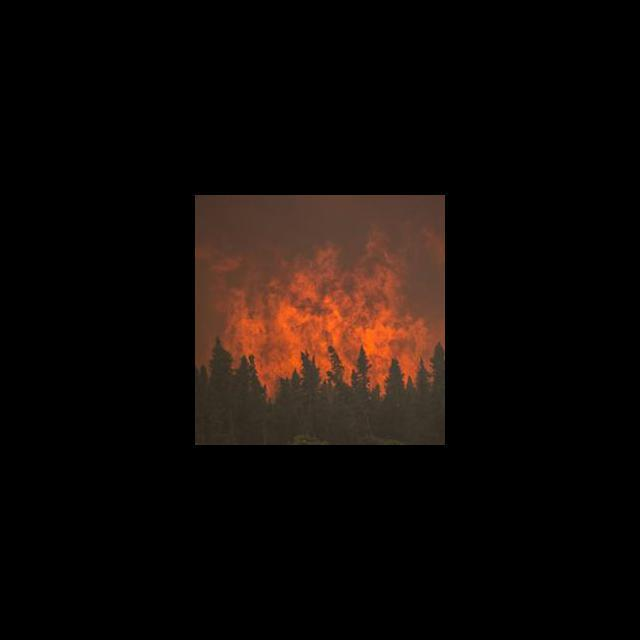Fire: (209, 232, 435, 396)
